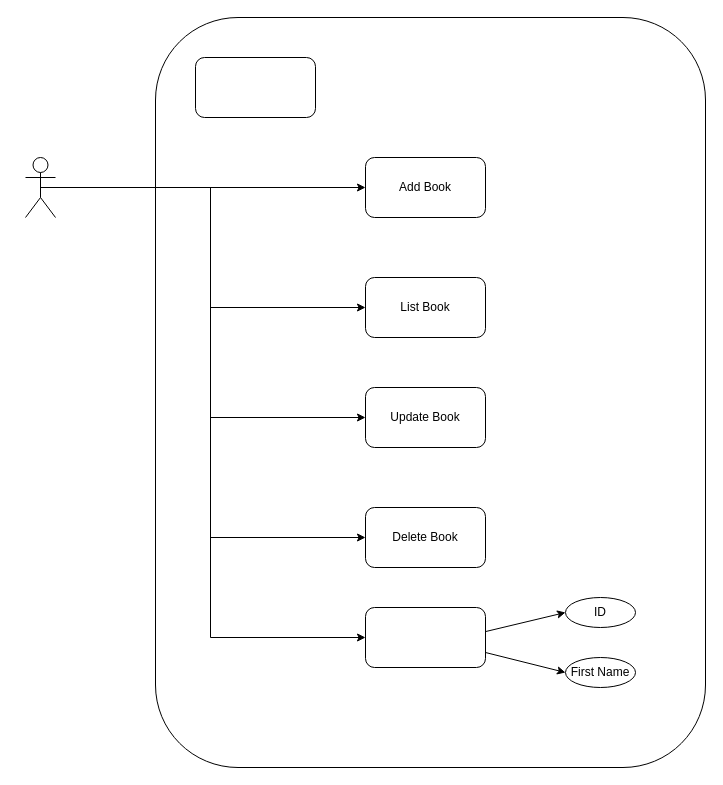
This 723x785 diagram has some shape labels left out. The shapes that lost their labels are listed below. From the top down, each one's centre as x and y in pixels, then its label:
pixel 255 87: Book Management
pixel 40 187: Librarian
pixel 425 637: Find Book
